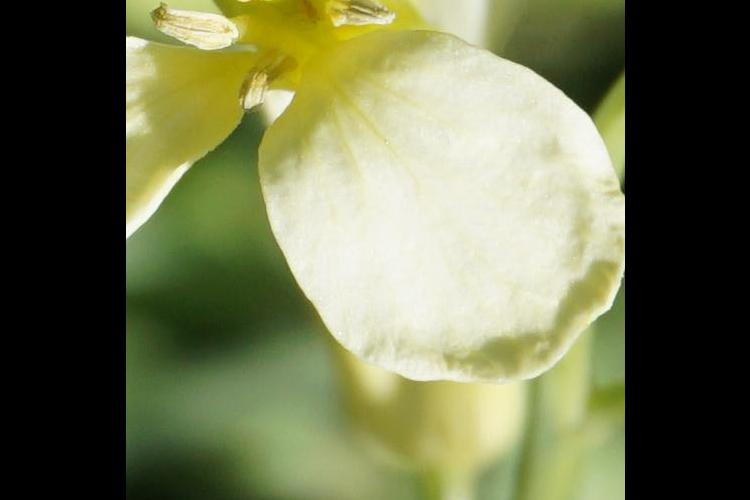white: (132, 1, 595, 374)
